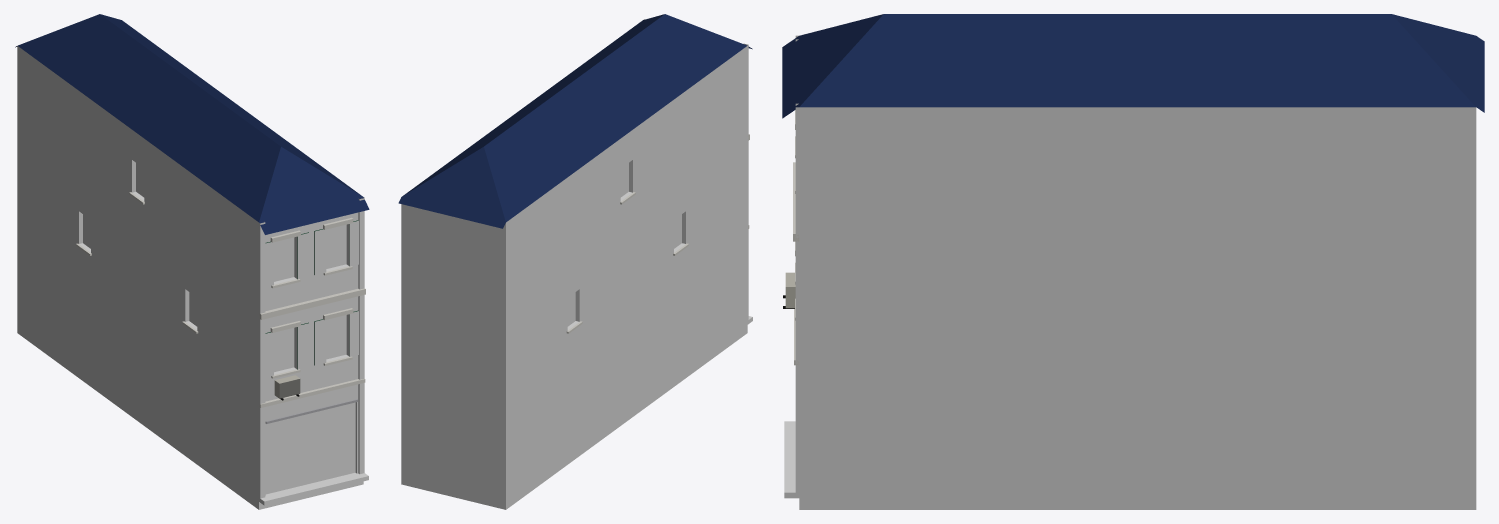
3 renders of one model, left to right at view 1: azimuth 30°, elevation 25°; view 2: azimuth 150°, elevation 25°; view 3: azimuth 270°, elevation 25°, orthographic. The views are drawn at different scales.
Parts seen in each view (by area): view 1: TH_D16_L_13_LOD0; view 2: TH_D16_L_13_LOD0; view 3: TH_D16_L_13_LOD0.
Boxes of the visible parts, box(x1,y1,x2,y2) form: TH_D16_L_13_LOD0: box(15, 14, 369, 509); TH_D16_L_13_LOD0: box(398, 14, 752, 509); TH_D16_L_13_LOD0: box(782, 14, 1484, 509).
Size of what is drawn, in the model's own units: 4.08 by 12 by 16.6.
